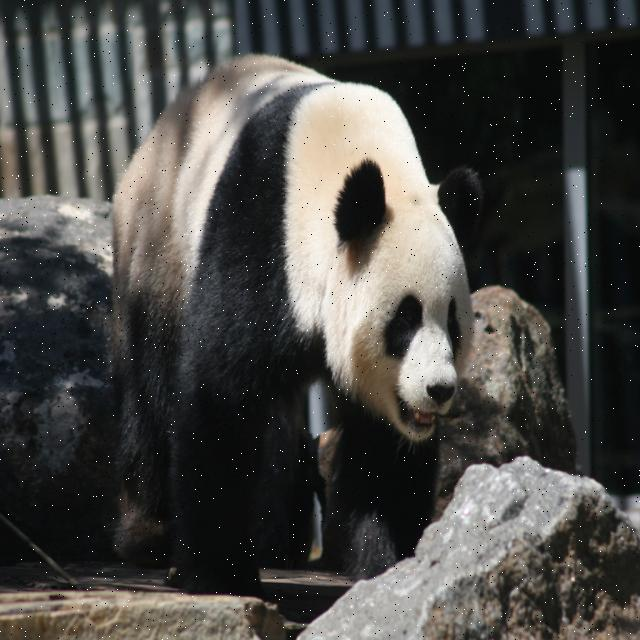panda: (109, 54, 485, 594)
